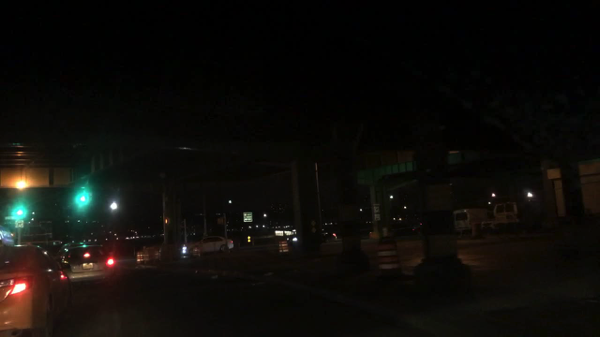car: (0, 244, 72, 336), (100, 235, 178, 265), (59, 245, 113, 288), (182, 235, 234, 257), (58, 242, 102, 268), (452, 208, 491, 233), (491, 200, 521, 229)
traffic light: (79, 191, 88, 208), (17, 205, 24, 218), (165, 216, 171, 226), (218, 218, 225, 225)
traffic sign: (243, 212, 253, 222), (15, 220, 24, 229), (247, 240, 252, 243), (247, 236, 252, 239)
